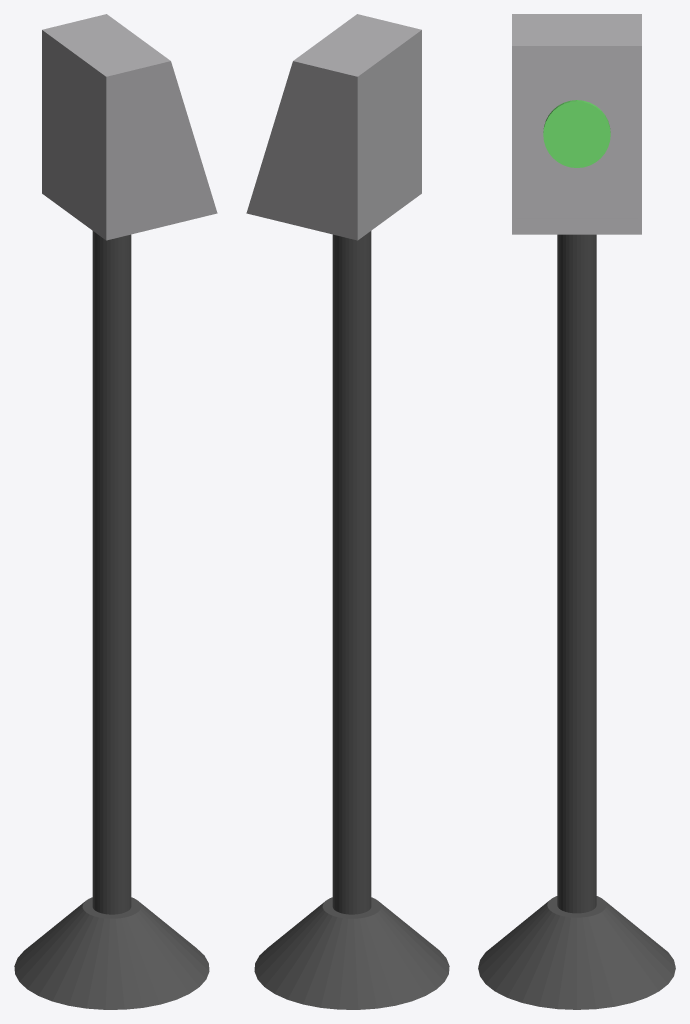
Rendered from button.fbx.
The picture shows the model from 3 angles, left to right: view 1: azimuth 30°, elevation 25°; view 2: azimuth 150°, elevation 25°; view 3: azimuth 270°, elevation 25°; orthographic projection.
Parts seen in each view (by area): view 1: Cylinder, Cube.001; view 2: Cylinder, Cube.001; view 3: Cylinder, Cube.001, Cylinder.001.
Part boxes in pixels (x1,y1,x2,y2): Cylinder: [14, 231, 209, 1009]; Cube.001: [42, 14, 217, 240]; Cylinder: [254, 231, 449, 1009]; Cube.001: [246, 14, 421, 240]; Cylinder: [478, 234, 675, 1009]; Cube.001: [512, 14, 641, 234]; Cylinder.001: [543, 100, 610, 167].
Bounding box in the file's own units: 26.47 × 138 × 26.47.
